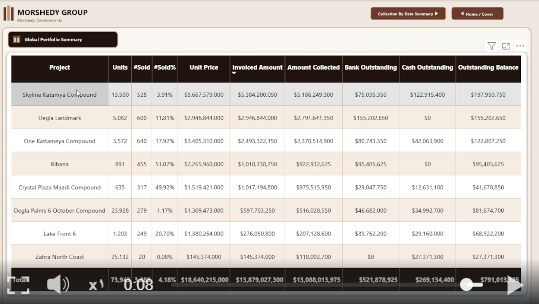

This screenshot's page, from the dashboard's own definition file:
{"tool":"powerbi","page":{"name":"Collection By Date Summary (01 Jul 2026 -03 Aug 2026)","canvas":[1280,720],"ordinal":3},"visuals":[{"type":"shape","box":[0,0,1281.3,720],"z":0},{"type":"shape","box":[49.6,112,340.2,36.9],"z":0,"group":"g1"},{"type":"textbox","box":[68.8,114.2,304.6,33.7],"z":1000,"group":"g1"},{"type":"tableEx","fields":{"Values":["Dim_Project.Project Name","Dim_Bank.Collected OLD","Dim_Bank.Collected NEW","Dim_Bank.Outstanding OLD","Dim_Bank.Outstanding NEW"]},"box":[0,218.1,1280,395.8],"z":1000},{"type":"shape","box":[40,22,570,70],"z":2000},{"type":"textbox","box":[46,14.2,518.7,60.2],"z":3000},{"type":"textbox","box":[49.6,49.6,729.4,42.5],"z":4000},{"type":"actionButton","box":[718.8,33.6,219.5,44.3],"z":5000},{"type":"actionButton","box":[975.5,33.6,219.5,44.3],"z":6000},{"type":"group","id":"g1","title":"Group 1","box":[49.6,112,340.2,36.9],"z":7000},{"type":"slicer","fields":{"Values":["Dim_Date.Date"]},"box":[719.5,114.1,222.5,47.7],"z":8000},{"type":"actionButton","box":[975.2,114.1,219.6,47.7],"z":9000}]}

Visuals, with their boxes on the page's 1280x720 design canvas (x1, y1, x2, y2). These are canvas units, not pixel positions in the 539x304 screenshot, which may show the page scaled, cropped or inside an application window:
shape: crop(0, 0, 1281, 720)
shape: crop(50, 112, 390, 149)
textbox: crop(69, 114, 373, 148)
tableEx - Dim_Project.Project Name x Dim_Bank.Collected OLD: crop(0, 218, 1280, 614)
shape: crop(40, 22, 610, 92)
textbox: crop(46, 14, 565, 74)
textbox: crop(50, 50, 779, 92)
actionButton: crop(719, 34, 938, 78)
actionButton: crop(976, 34, 1195, 78)
"Group 1" group: crop(50, 112, 390, 149)
slicer - Dim_Date.Date: crop(720, 114, 942, 162)
actionButton: crop(975, 114, 1195, 162)
